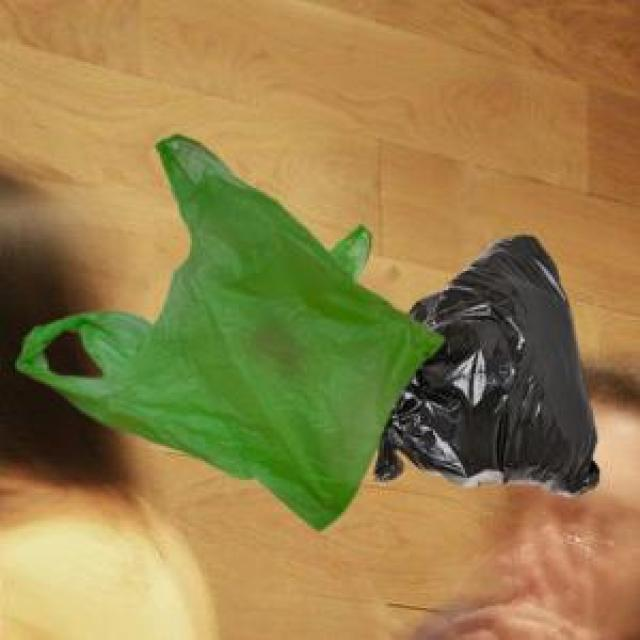miscellaneous trash: (371, 230, 595, 493)
